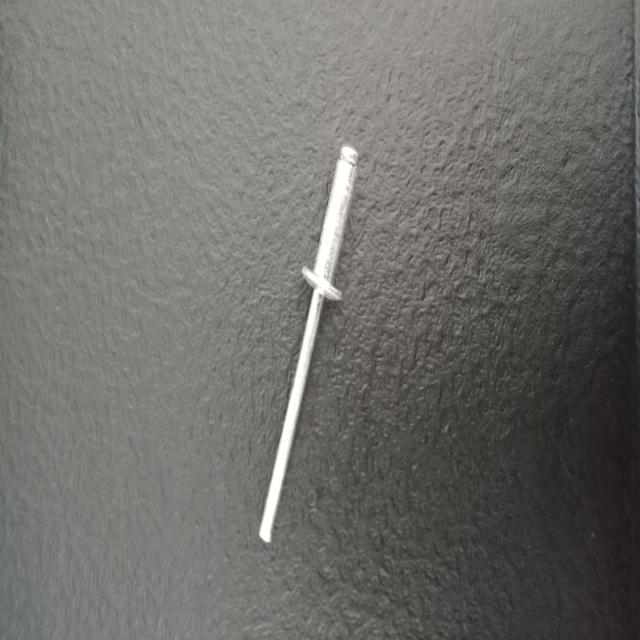rivet: (258, 142, 359, 544)
